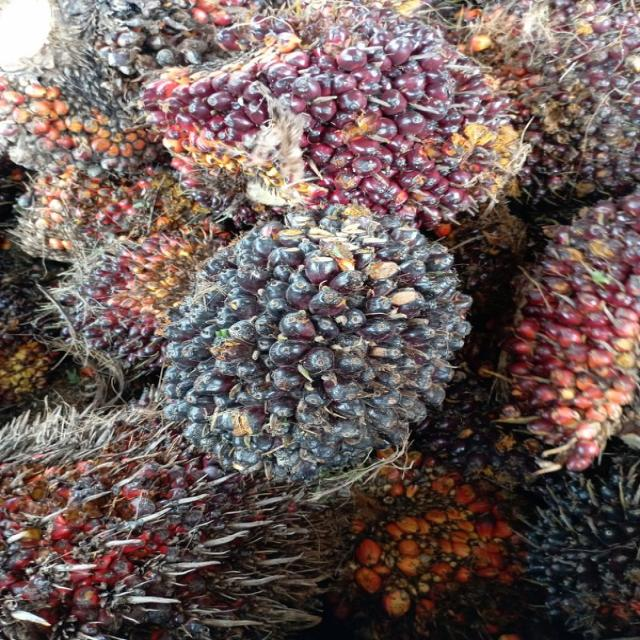fraksi 00: (150, 218, 470, 469)
fraksi 1: (154, 12, 541, 238)
fraksi 3: (487, 188, 640, 470)
